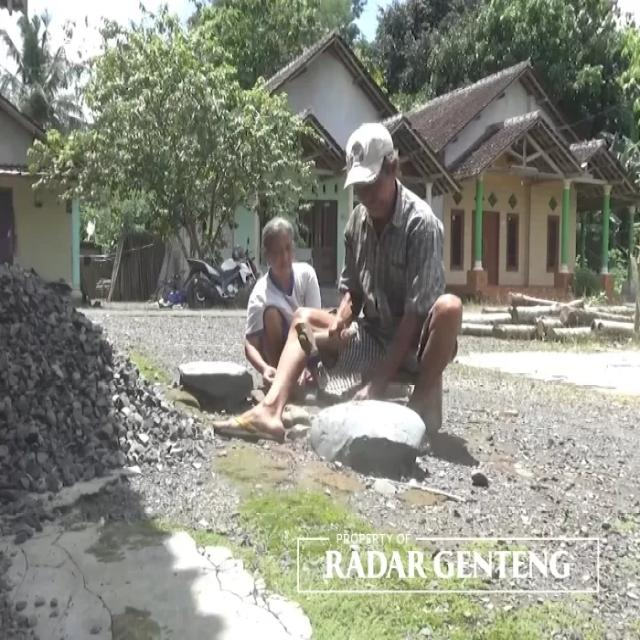Pecahan Agregat: (12, 268, 200, 501), (495, 365, 640, 570)
